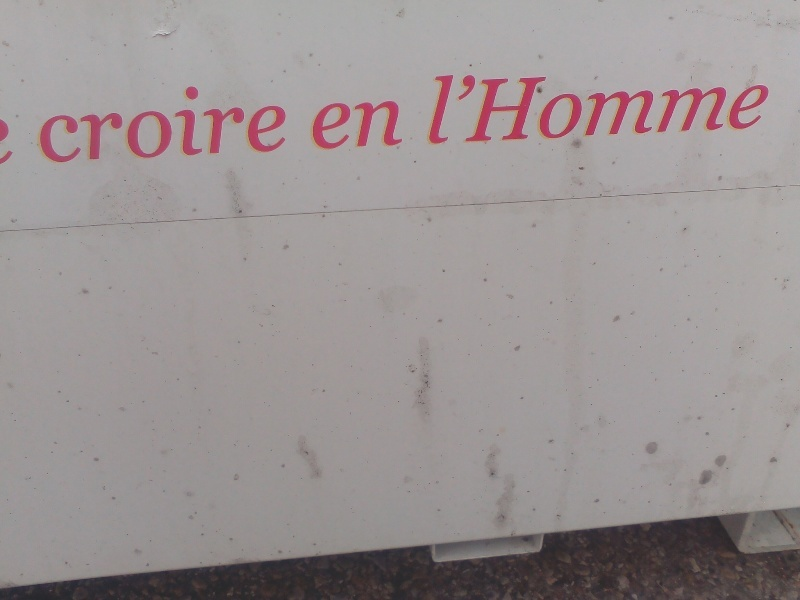text: (49, 81, 64, 167), (65, 81, 80, 167), (81, 81, 96, 167), (97, 81, 112, 167), (113, 81, 128, 167), (129, 81, 144, 167), (145, 81, 160, 167), (161, 81, 176, 167), (177, 81, 192, 167), (193, 81, 208, 167), (209, 81, 224, 167), (225, 81, 240, 167), (241, 81, 256, 167), (257, 81, 272, 167), (273, 81, 288, 167), (449, 73, 464, 149), (465, 73, 480, 149), (481, 73, 496, 149), (497, 73, 512, 149), (513, 73, 528, 149), (529, 73, 544, 149), (545, 73, 560, 149), (561, 73, 576, 149), (577, 73, 592, 149), (593, 73, 608, 149), (609, 73, 624, 149), (625, 73, 640, 149), (641, 73, 656, 149), (657, 73, 672, 149), (673, 73, 688, 149), (689, 73, 704, 149), (705, 73, 720, 149), (721, 73, 736, 149), (737, 73, 752, 149), (753, 73, 768, 149), (435, 73, 448, 149), (321, 100, 336, 150), (337, 100, 352, 150), (353, 100, 368, 150), (369, 100, 384, 150), (385, 100, 400, 150), (44, 81, 48, 167), (314, 100, 320, 150), (769, 73, 772, 149), (401, 100, 405, 150), (289, 81, 290, 167)
